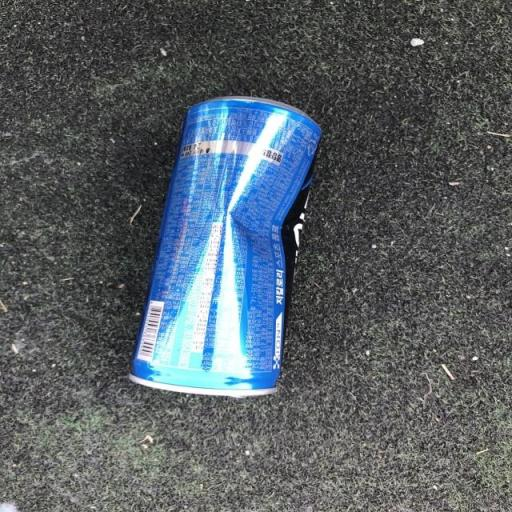metal: (114, 72, 354, 434)
